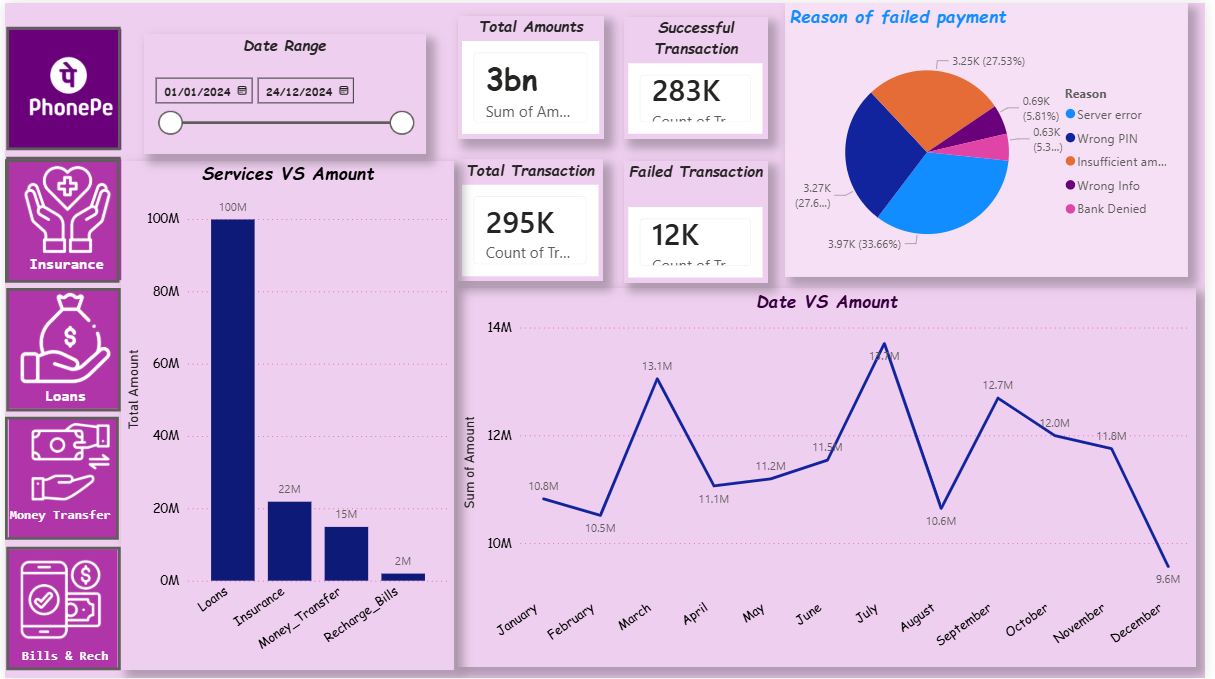

What the dashboard file says about the page in this screenshot:
{"tool":"powerbi","page":{"name":"Home","canvas":[1280,720],"ordinal":0},"visuals":[{"type":"shape","box":[4.1,28.1,120,128],"z":0,"group":"g1"},{"type":"slicer","title":"Date Range","fields":{"Values":["All_Transactions.Date"]},"box":[148.2,32.9,300.5,127.6],"z":0},{"type":"shape","box":[4,166,120,129],"z":0,"group":"g2"},{"type":"shape","box":[4.1,582.6,116,128],"z":0,"group":"g5"},{"type":"group","id":"g1","title":"Group 2","box":[1.1,28.1,123,267.7],"z":1000},{"type":"shape","box":[4,305,118,129],"z":1000,"group":"g3"},{"type":"image","box":[9.7,582.4,100.2,107],"z":1000,"group":"g5"},{"type":"group","id":"g2","title":"Group 3","box":[4,160.8,120.7,134.2],"z":2000},{"type":"shape","box":[4,443.6,116.4,128.6],"z":2000,"group":"g4"},{"type":"cardVisual","title":"Total  Amounts ","fields":{"Data":["Sum(All_Transactions.Amount)"]},"box":[483,13.7,156.4,131.7],"z":3000},{"type":"image","box":[10.3,160.8,112.4,117.5],"z":3000,"group":"g2"},{"type":"group","id":"g3","title":"Group 4","box":[4,303.1,120.7,134],"z":4000},{"type":"image","box":[8.2,303.1,116.5,106.2],"z":4000,"group":"g3"},{"type":"image","box":[21.8,36.2,94.8,110.3],"z":4001,"group":"g1"},{"type":"cardVisual","title":"Successful Transaction ","fields":{"Data":["CountNonNull(All_Transactions.Transaction_ID)"]},"box":[660,15.1,153.7,130.4],"z":5000},{"type":"image","box":[22.8,433.6,94.1,112.1],"z":5000,"group":"g4"},{"type":"textbox","box":[16.5,263.9,108.2,30.9],"z":6000,"group":"g2"},{"type":"group","id":"g4","title":"Group 5","box":[0,433.6,134.5,138.6],"z":6000},{"type":"cardVisual","title":"Failed Transaction ","fields":{"Data":["CountNonNull(All_Transactions.Transaction_ID)"]},"box":[660,167.4,153.7,130.4],"z":7000},{"type":"textbox","box":[14.4,406.2,108.2,30.9],"z":7000,"group":"g3"},{"type":"cardVisual","title":"Total Transaction ","fields":{"Data":["CountNonNull(All_Transactions.Transaction_ID)"]},"box":[483,166,155.1,130.4],"z":8000},{"type":"textbox","box":[0,531.3,134.5,32.9],"z":8000,"group":"g4"},{"type":"pieChart","title":" Reason of failed payment","fields":{"Category":["All_Transactions.Reason"],"Y":["CountNonNull(All_Transactions.Reason)"]},"box":[831.6,0,429.5,292.3],"z":9000},{"type":"textbox","box":[8.7,680.6,120,32.9],"z":9000,"group":"g5"},{"type":"lineChart","title":" Date VS Amount","fields":{"Category":["All_Transactions.Date.Variation.Date Hierarchy.Month"],"Y":["Sum(All_Transactions.Amount)"]},"box":[483,304.6,787.7,404.8],"z":10000},{"type":"columnChart","title":"Services VS Amount","fields":{"Category":["All_Transactions.Service"],"Y":["Sum(All_Transactions.Amount)"]},"box":[123.5,167.4,355.4,543.4],"z":11000},{"type":"group","id":"g5","title":"Group 1","box":[4.1,582.4,124.9,130.4],"z":12000},{"type":"actionButton","box":[1.1,164.1,122.1,131.7],"z":12001,"group":"g1"},{"type":"actionButton","box":[0,166,122.1,131.7],"z":13000},{"type":"actionButton","box":[1.4,304.6,122.1,131.7],"z":14000},{"type":"actionButton","box":[1.4,24.7,122.1,131.7],"z":15000},{"type":"actionButton","box":[1.4,580.4,122.1,131.7],"z":16000},{"type":"actionButton","box":[0,441.4,121.4,131.4],"z":17000}]}

Visuals, with their boxes in screenshot pixels (x1, y1, x2, y2), scaled from the page's 1280x720 canvas onto the 1215x679 screenshot:
shape: locate(4, 26, 118, 147)
"Date Range" slicer: locate(141, 31, 426, 151)
shape: locate(4, 157, 118, 278)
shape: locate(4, 549, 114, 670)
"Group 2" group: locate(1, 26, 118, 279)
shape: locate(4, 288, 116, 409)
image: locate(9, 549, 104, 650)
"Group 3" group: locate(4, 152, 118, 278)
shape: locate(4, 418, 114, 540)
"Total  Amounts " cardVisual: locate(458, 13, 607, 137)
image: locate(10, 152, 116, 262)
"Group 4" group: locate(4, 286, 118, 412)
image: locate(8, 286, 118, 386)
image: locate(21, 34, 111, 138)
"Successful Transaction " cardVisual: locate(626, 14, 772, 137)
image: locate(22, 409, 111, 515)
textbox: locate(16, 249, 118, 278)
"Group 5" group: locate(0, 409, 128, 540)
"Failed Transaction " cardVisual: locate(626, 158, 772, 281)
textbox: locate(14, 383, 116, 412)
"Total Transaction " cardVisual: locate(458, 157, 606, 280)
textbox: locate(0, 501, 128, 532)
" Reason of failed payment" pieChart: locate(789, 0, 1197, 276)
textbox: locate(8, 642, 122, 673)
" Date VS Amount" lineChart: locate(458, 287, 1206, 669)
"Services VS Amount" columnChart: locate(117, 158, 455, 670)
"Group 1" group: locate(4, 549, 122, 672)
actionButton: locate(1, 155, 117, 279)
actionButton: locate(0, 157, 116, 281)
actionButton: locate(1, 287, 117, 411)
actionButton: locate(1, 23, 117, 147)
actionButton: locate(1, 547, 117, 672)
actionButton: locate(0, 416, 115, 540)
